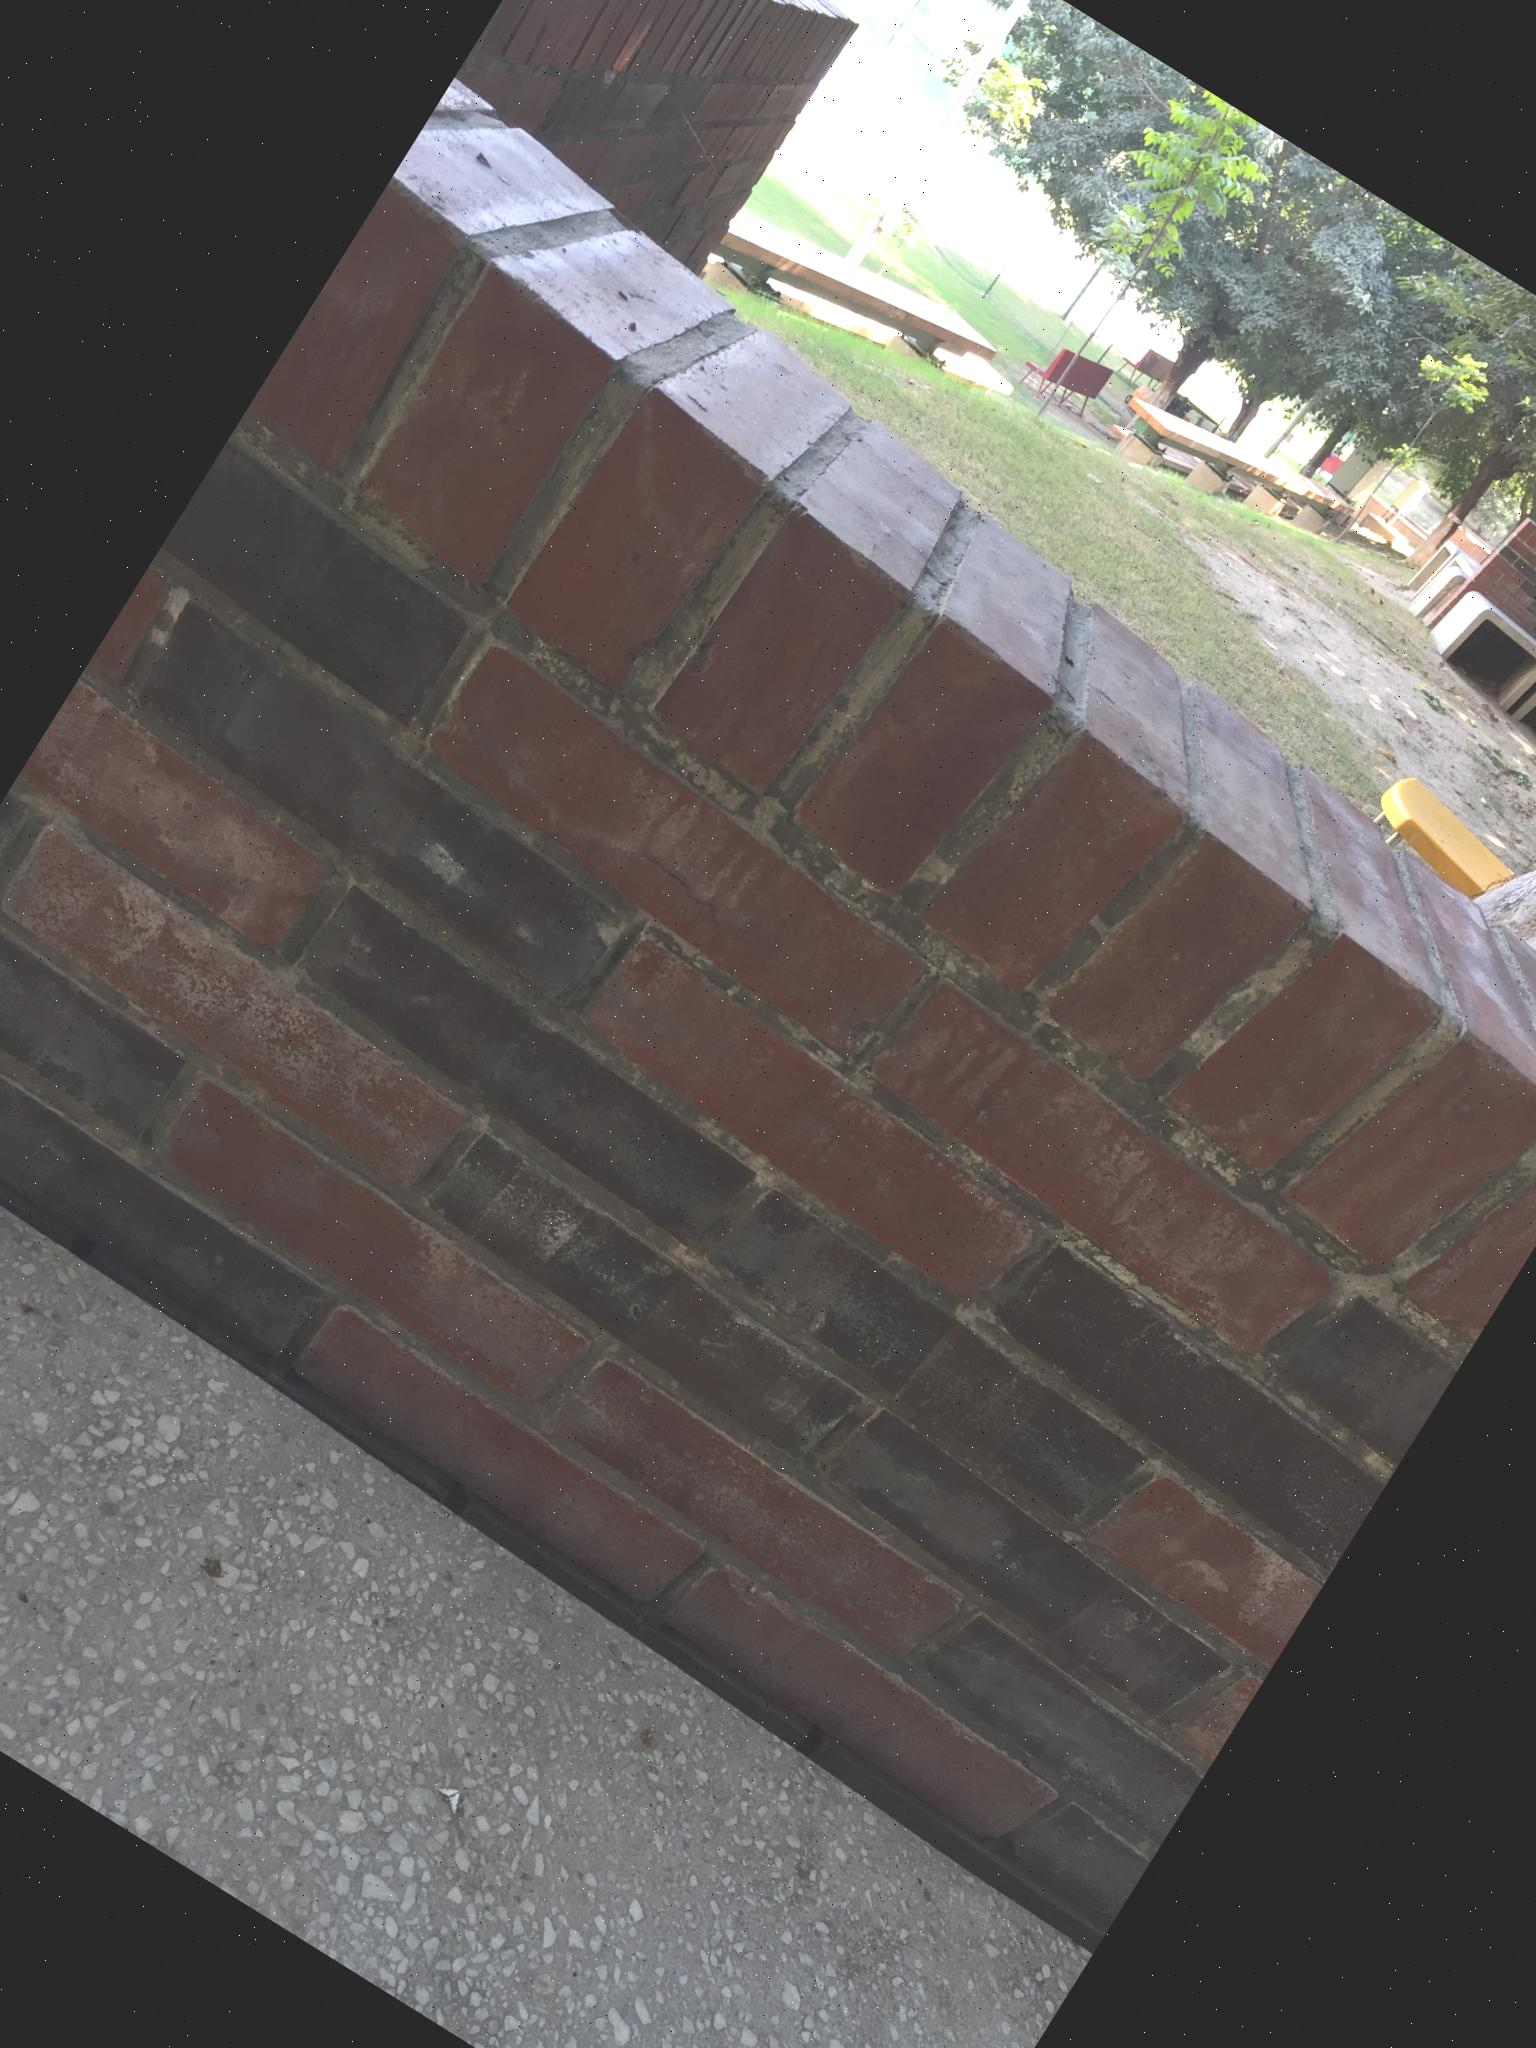chair: (1291, 640, 1536, 1072)
